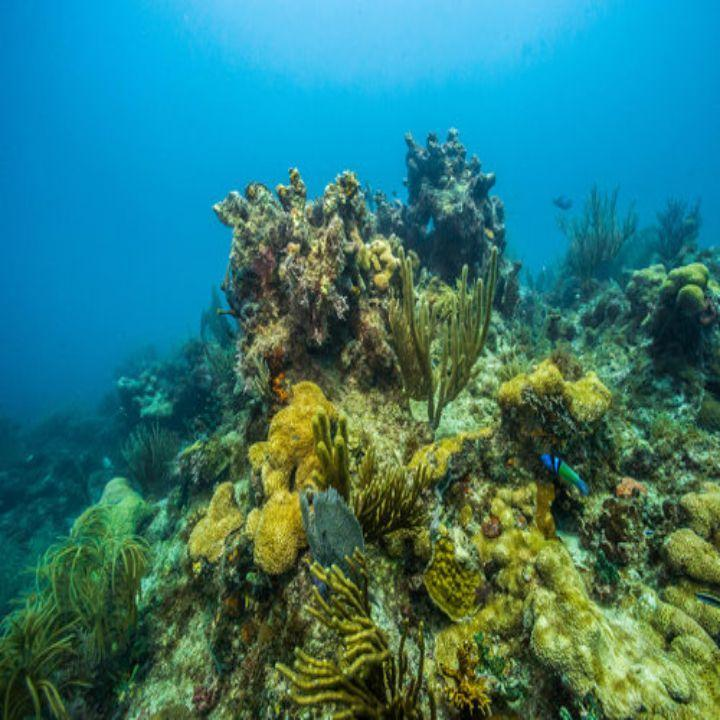Healthy Coral: (212, 171, 713, 712), (12, 465, 181, 703)
